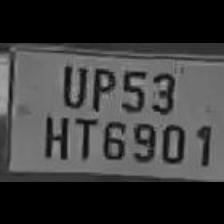0: (157, 118, 185, 162)
1: (190, 119, 214, 165)
3: (146, 66, 178, 112)
5: (117, 65, 147, 111)
6: (96, 114, 126, 160)
9: (128, 116, 156, 162)
H: (39, 110, 69, 158)
P: (87, 63, 115, 111)
T: (69, 112, 97, 160)
U: (56, 58, 86, 106)
